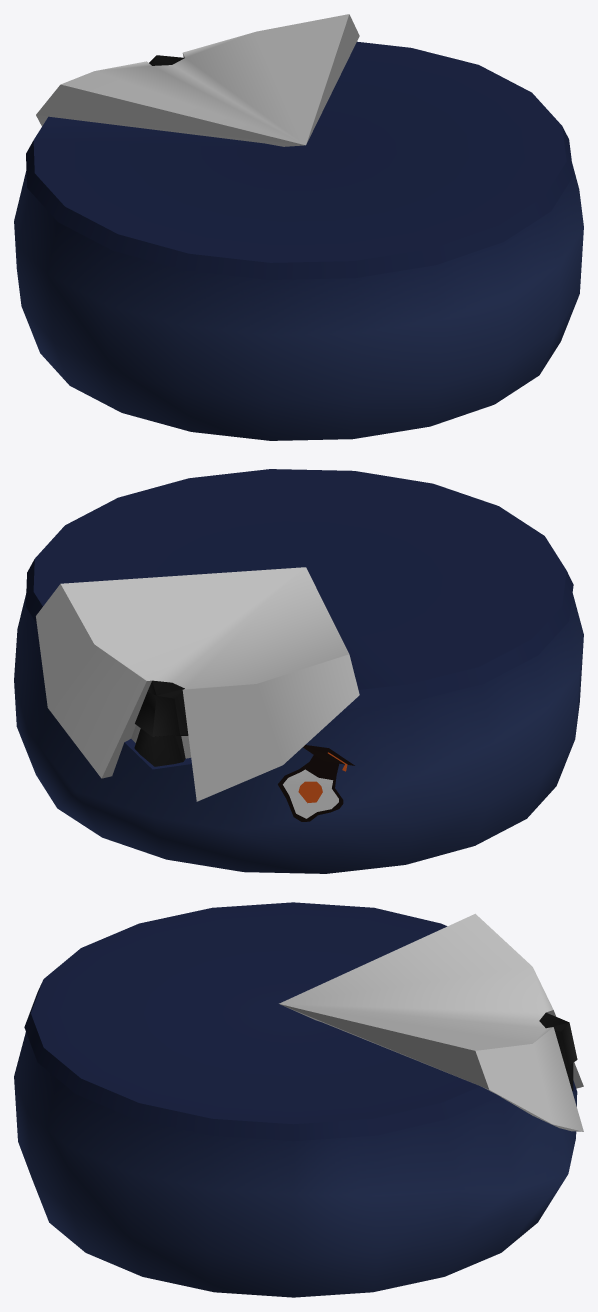
File: hat_academymale.glb
3 renders of one model, top to bottom at view 1: azimuth 30°, elevation 25°; view 2: azimuth 150°, elevation 25°; view 3: azimuth 270°, elevation 25°, orthographic. The views are drawn at different scales.
Visible parts, largest first — view 1: hat_academymale; view 2: hat_academymale; view 3: hat_academymale.
Boxes of the visible parts, x1,y1,x2,y2 form: hat_academymale: (14,14,583,440); hat_academymale: (14,469,583,873); hat_academymale: (14,902,583,1297).
Size of the model in its own units: 0.5297 by 0.2162 by 0.5401.
